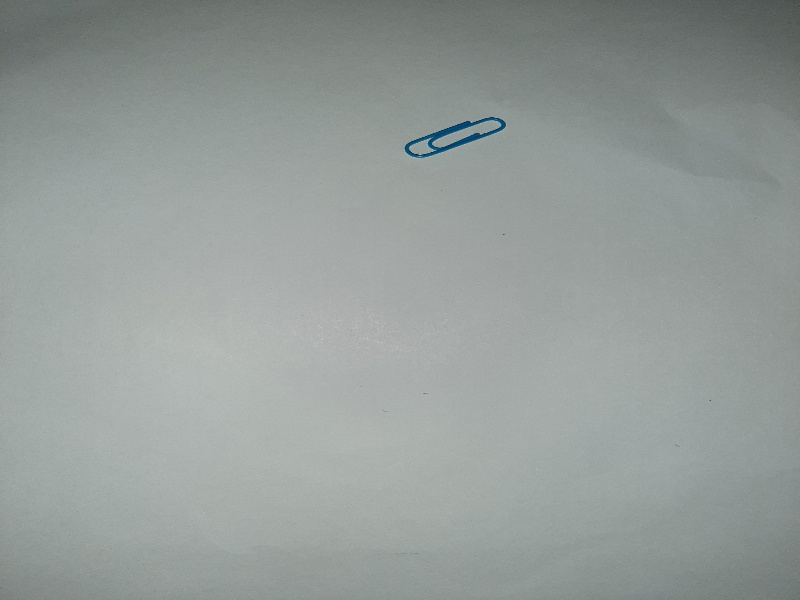Small Jumpclip: (398, 112, 508, 161)
